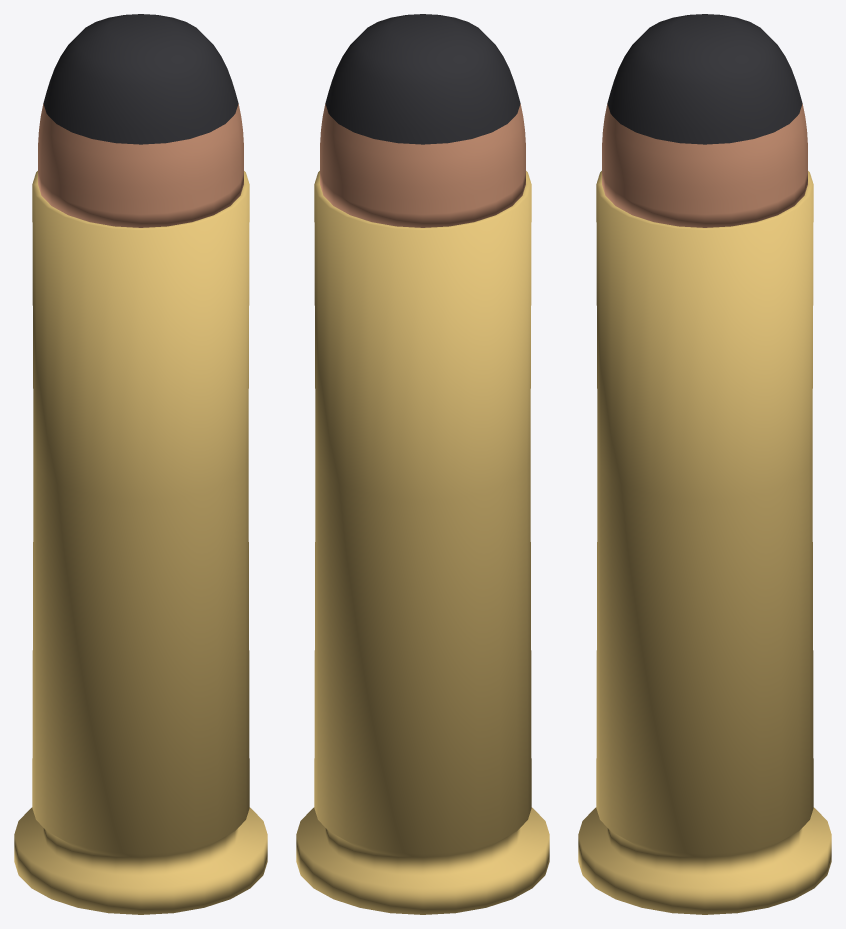
3 renders of one model, left to right at view 1: azimuth 30°, elevation 25°; view 2: azimuth 150°, elevation 25°; view 3: azimuth 270°, elevation 25°, orthographic.
Parts seen in each view (by area): view 1: vaina, punta, bala_cuerpo; view 2: vaina, punta, bala_cuerpo; view 3: vaina, punta, bala_cuerpo.
Part boxes in pixels (left/top/right/bottom): vaina: left=14, top=171, right=267, bottom=914; punta: left=43, top=14, right=238, bottom=144; bala_cuerpo: left=38, top=104, right=243, bottom=227; vaina: left=296, top=171, right=549, bottom=914; punta: left=325, top=14, right=520, bottom=144; bala_cuerpo: left=320, top=104, right=525, bottom=227; vaina: left=578, top=171, right=831, bottom=914; punta: left=607, top=14, right=802, bottom=144; bala_cuerpo: left=602, top=104, right=807, bottom=227.
Size of the model in its own units: 0.0112 by 0.0406 by 0.0112.
